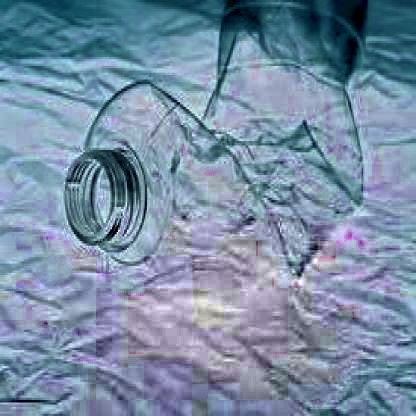pbottle: (59, 2, 372, 273)
